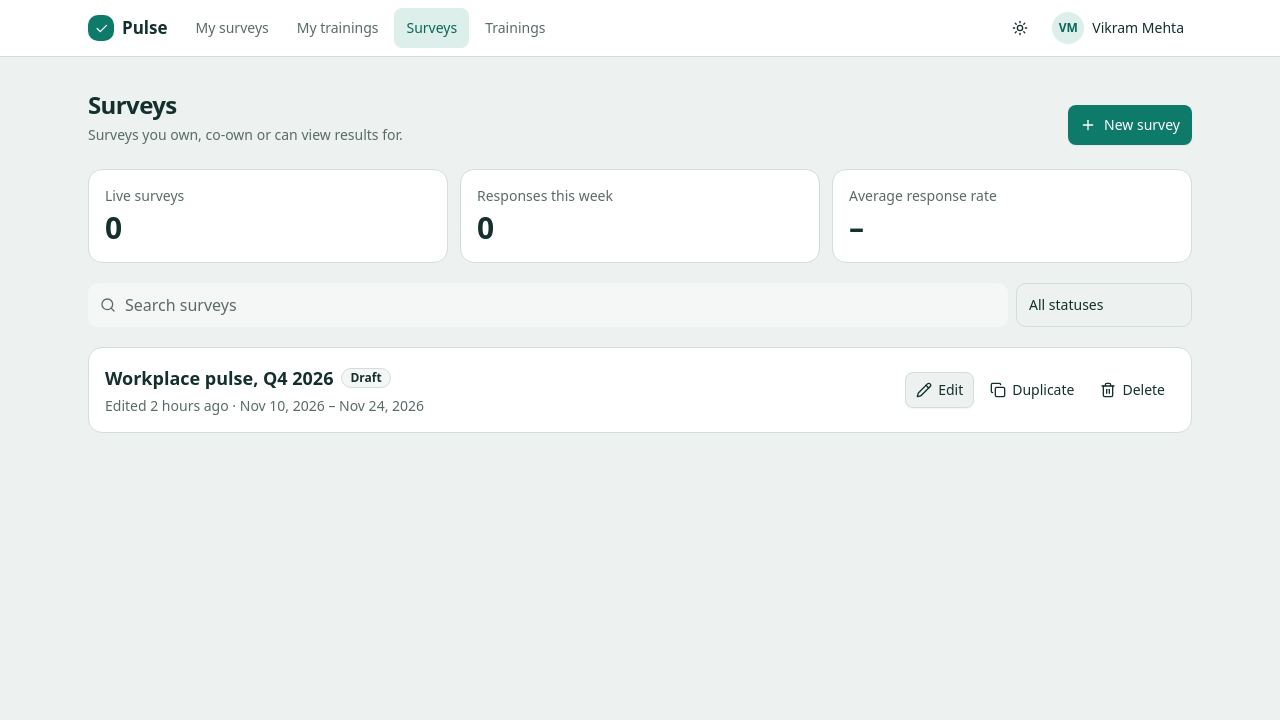
Test: Surveys home › asks before deleting, and can be cancelled
Click the button with aria-label "Delete Workplace pulse, Q4 2026" at (1133, 390), box 1090,372 -> 1175,408
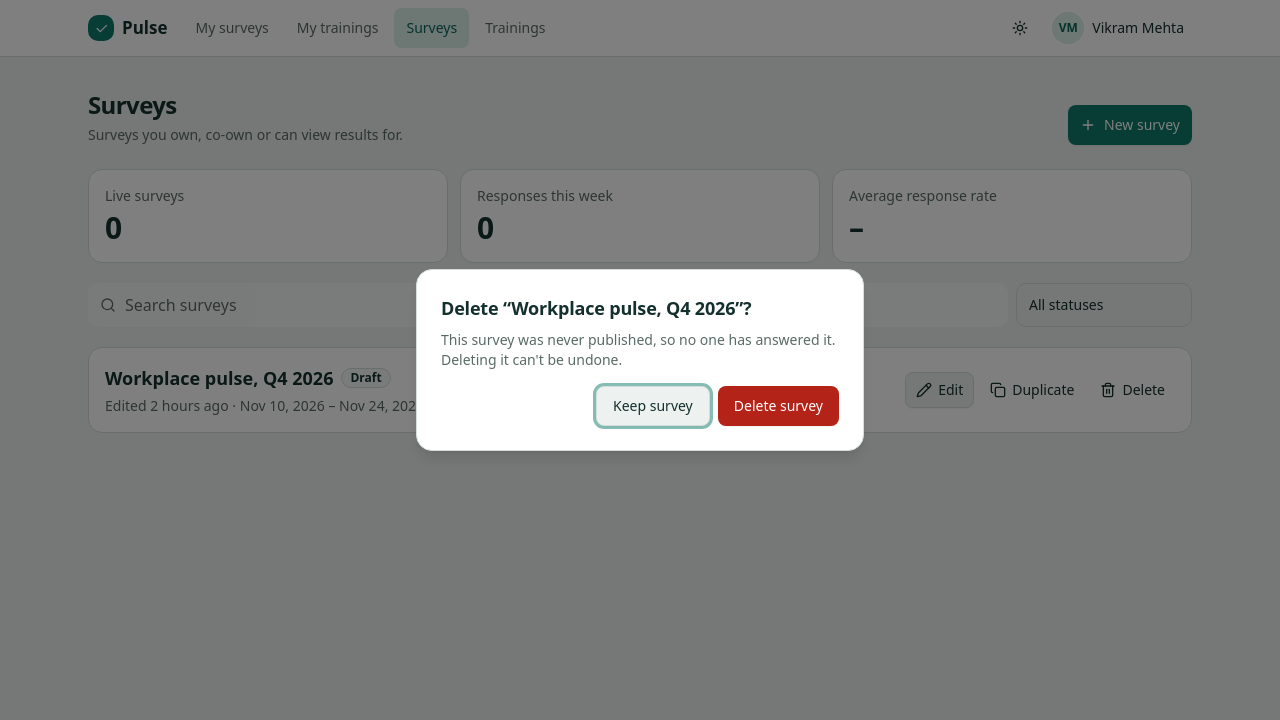
Click the button "Keep survey" at (653, 406), box 596,386 -> 710,426
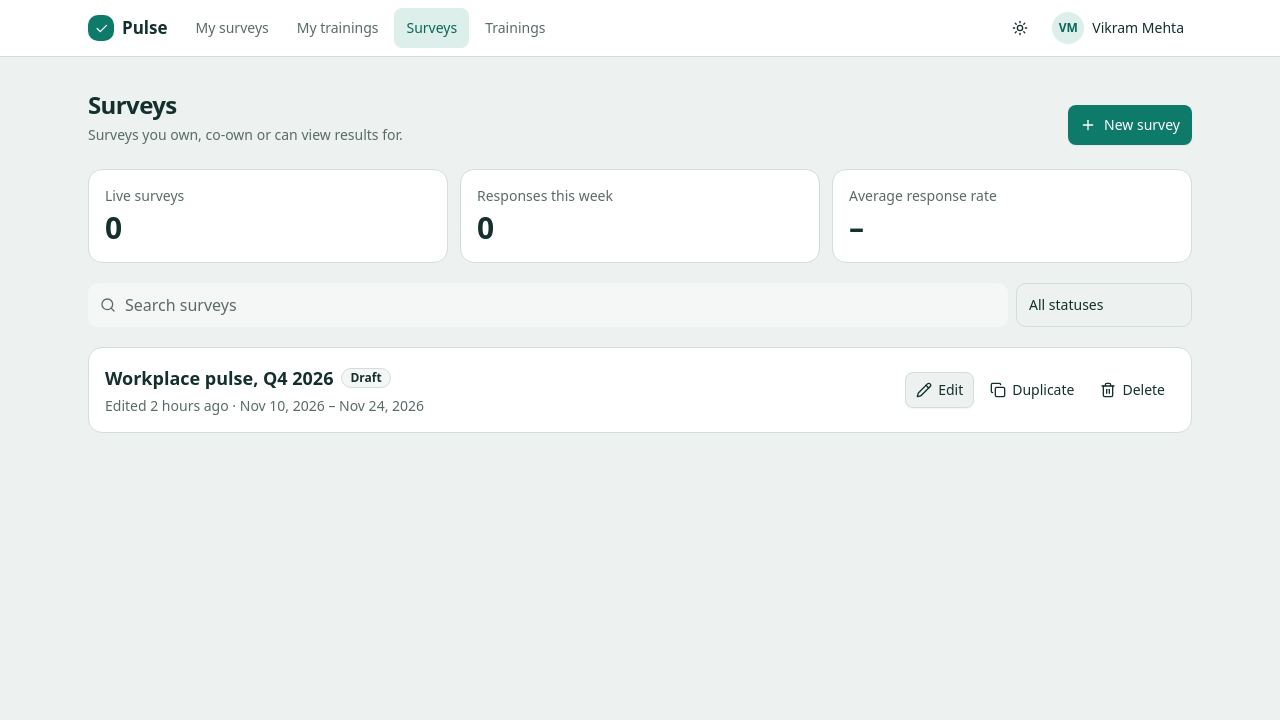
Expected: the dialog is gone
